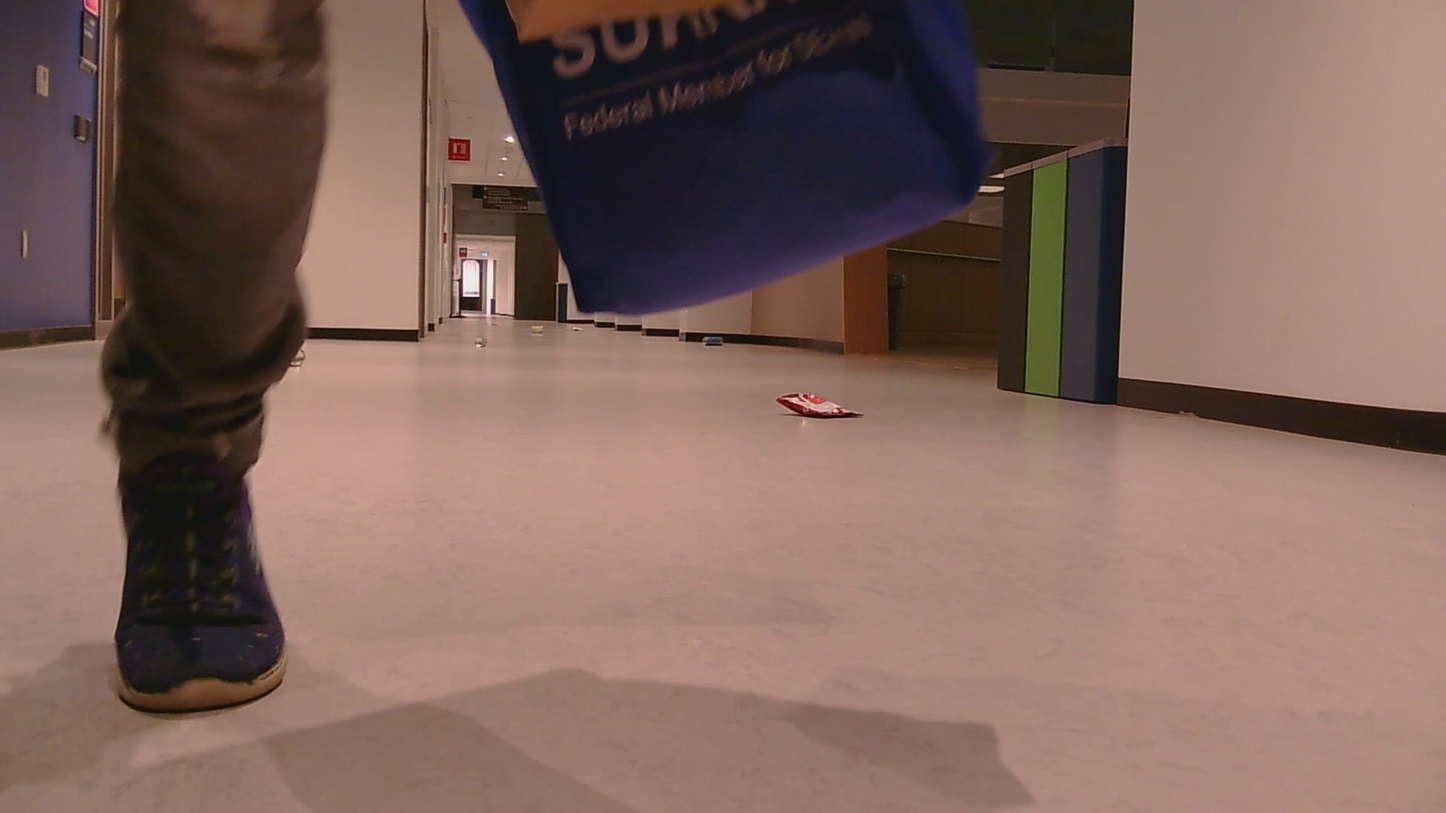carton: (764, 381, 889, 446)
